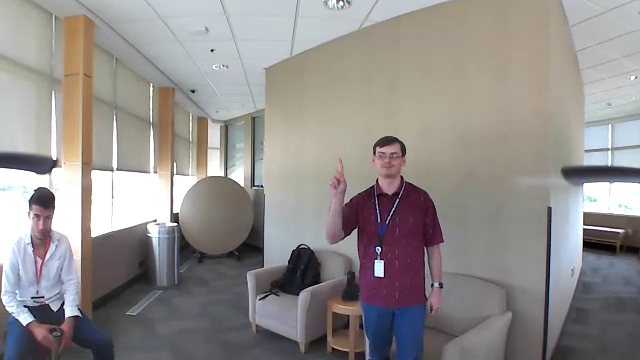up: (324, 156, 358, 199)
